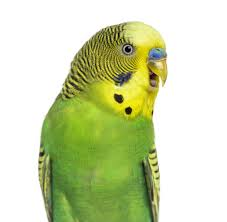budgie: (38, 19, 169, 222)
